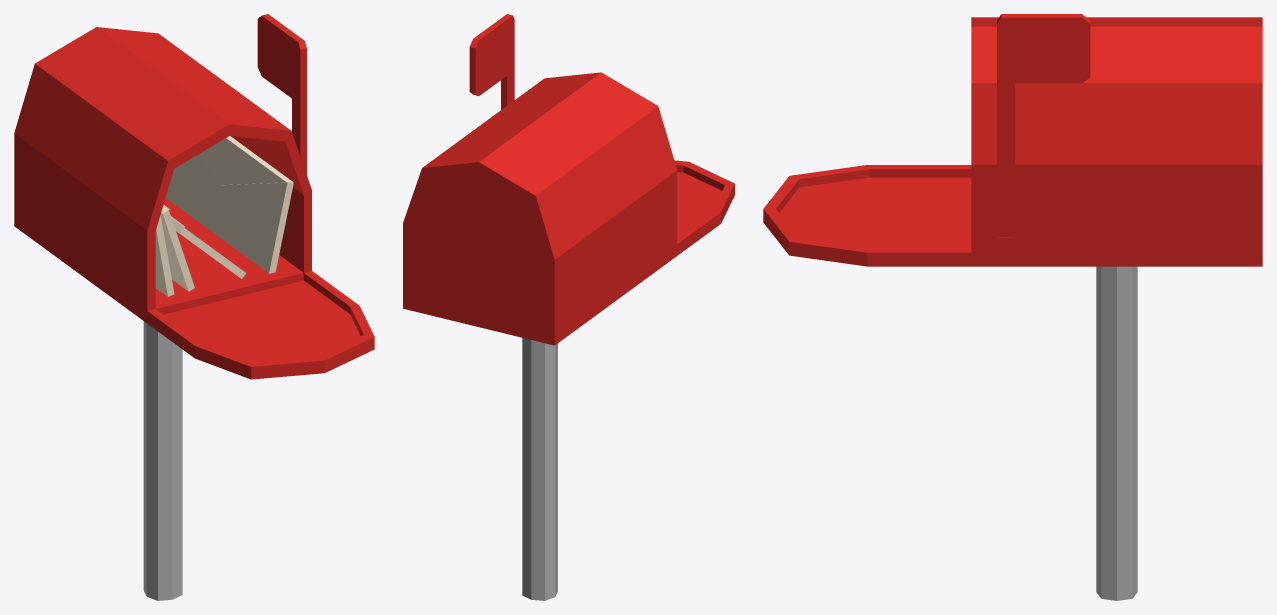
File: mailbox.gltf
3 views of the same model, side by side, from view 1: azimuth 30°, elevation 25°; view 2: azimuth 150°, elevation 25°; view 3: azimuth 270°, elevation 25° (orthographic). The views are drawn at different scales.
Visible parts, largest first — view 1: Mailbox, Letters; view 2: Mailbox; view 3: Mailbox.
Boxes of the visible parts, x1,y1,x2,y2 form: Mailbox: (14, 14, 374, 600); Letters: (155, 136, 293, 296); Mailbox: (403, 14, 734, 600); Mailbox: (763, 14, 1262, 600).
Size of the model in its own units: 0.52 by 1.65 by 1.2.
